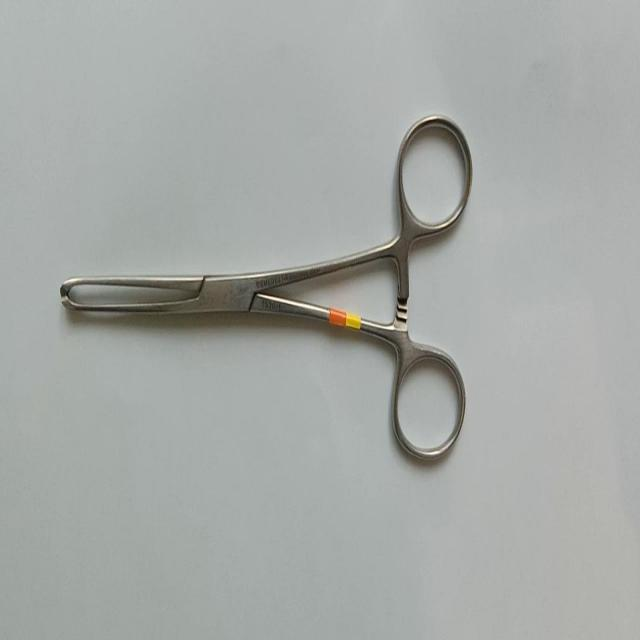AllisForcep: (59, 111, 474, 470)
